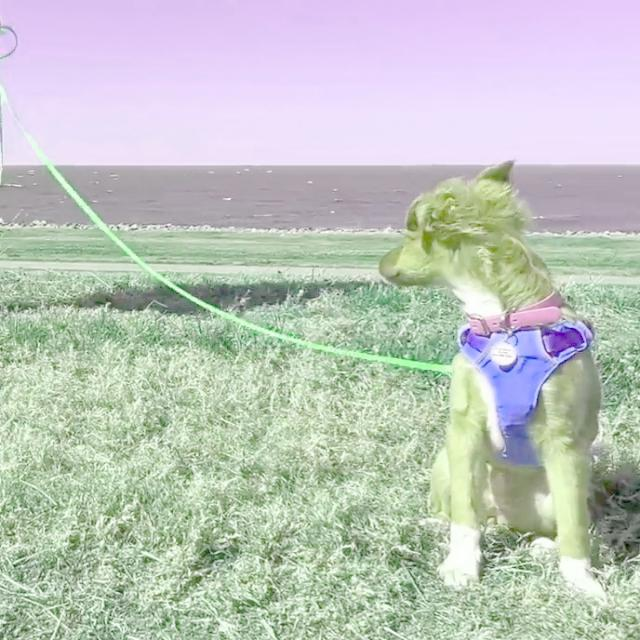Dog: (378, 160, 602, 594)
